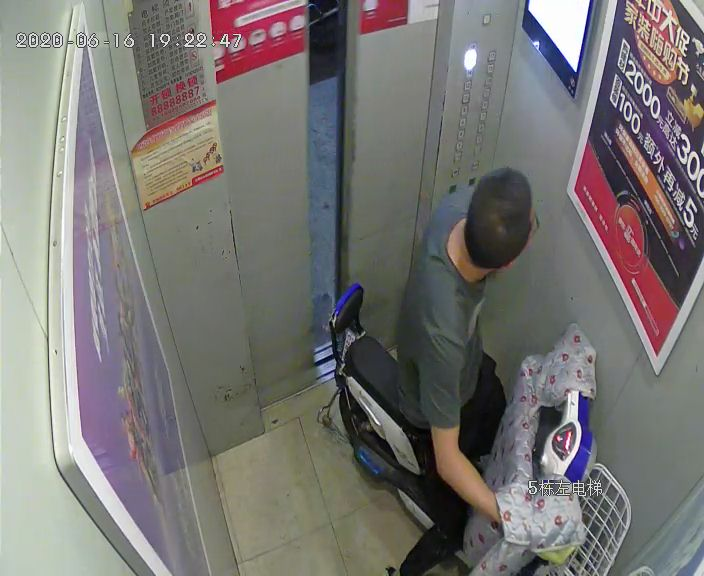Electric-bicycle: (318, 285, 627, 576)
